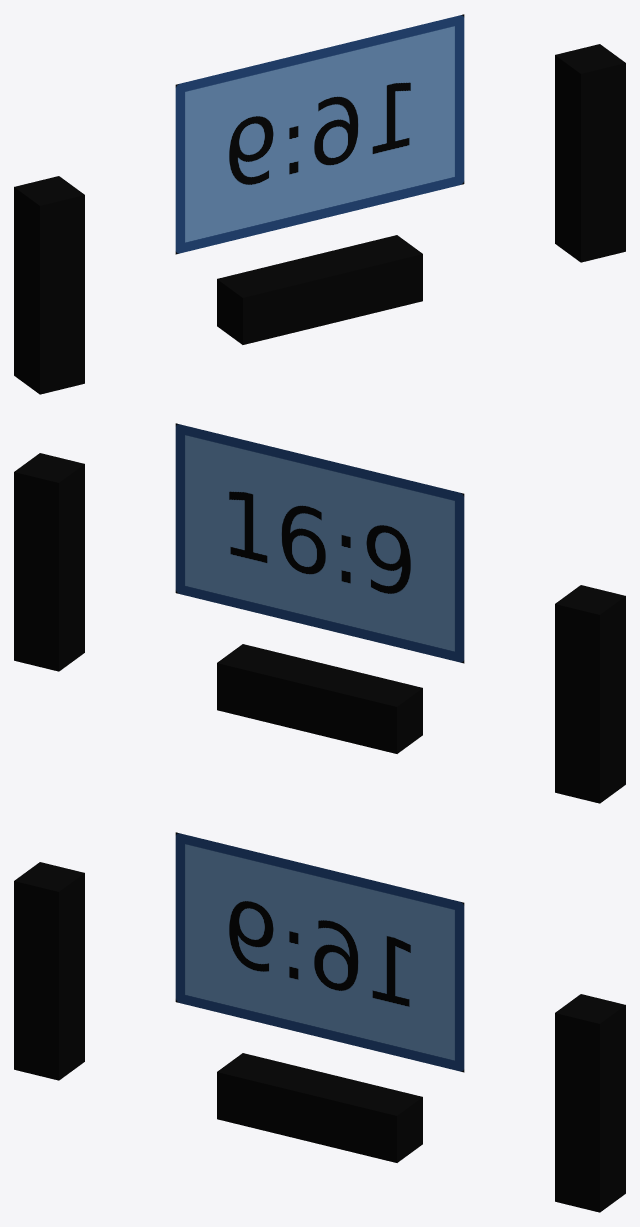
File: videoplayersystem.fbx
3 renders of one model, top to bottom at view 1: azimuth 30°, elevation 25°; view 2: azimuth 150°, elevation 25°; view 3: azimuth 330°, elevation 25°, orthographic.
Parts seen in each view (by area): view 1: videoscreen, speakers_1, speaker_2, videoplayer; view 2: videoscreen, speakers_1, speaker_2, videoplayer; view 3: videoscreen, speakers_1, speaker_2, videoplayer.
Part boxes in pixels (x1,y1,x2,y2): videoscreen: (175,14,464,254); speakers_1: (555,44,625,262); speaker_2: (14,176,84,394); videoplayer: (217,235,422,344); videoscreen: (175,423,464,663); speakers_1: (14,453,84,671); speaker_2: (555,585,625,803); videoplayer: (217,644,422,753); videoscreen: (175,832,464,1072); speakers_1: (555,994,625,1212); speaker_2: (14,862,84,1080); videoplayer: (217,1053,422,1162).
Size of what is drawn, in the model's own units: 650 by 280 by 50.
